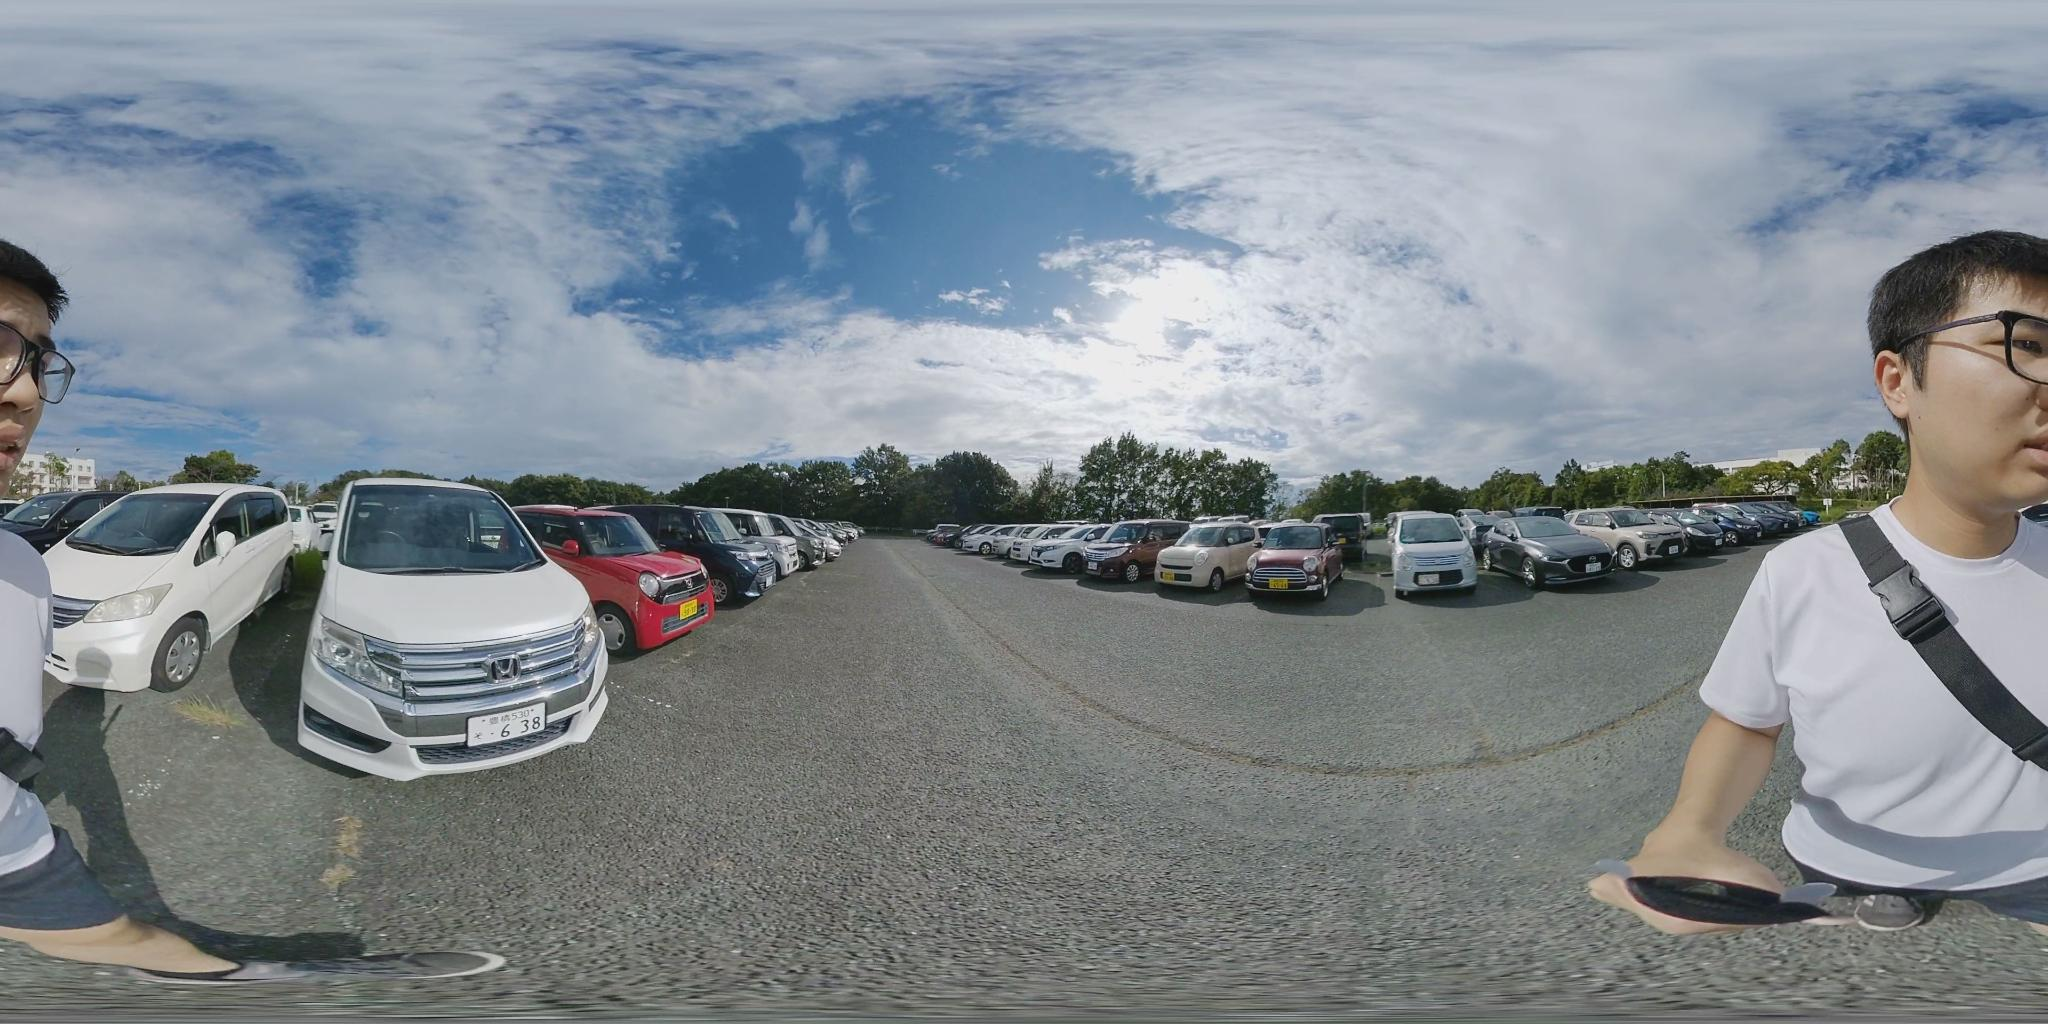car: (294, 469, 603, 781), (33, 485, 316, 700), (515, 511, 741, 657), (605, 505, 797, 598), (1162, 520, 1345, 596), (1479, 513, 1626, 586), (1067, 522, 1200, 583), (0, 490, 119, 555), (1386, 515, 1480, 596), (1566, 509, 1695, 562), (1016, 525, 1115, 567), (1714, 507, 1802, 545), (1311, 516, 1374, 546), (961, 526, 1015, 556), (927, 525, 968, 546)
